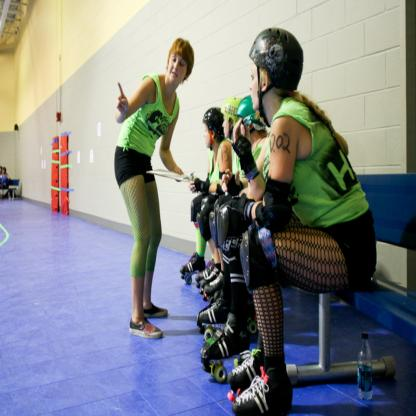Helmet: (246, 30, 307, 104), (232, 92, 267, 130), (200, 105, 227, 154), (219, 89, 247, 134)
